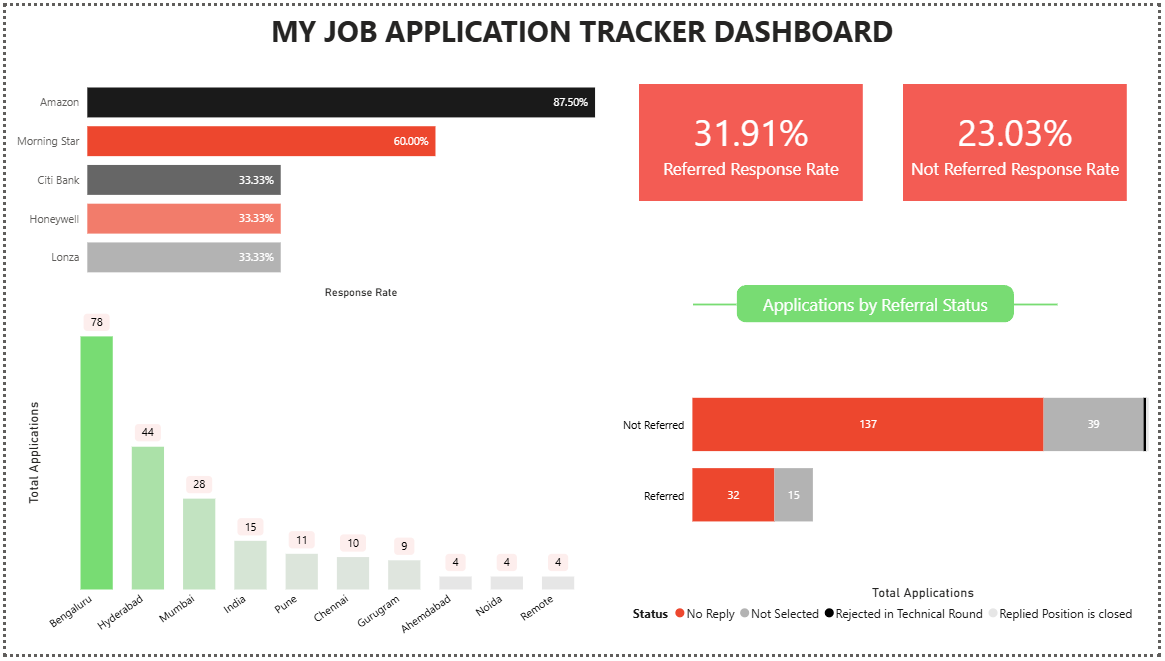

The dashboard page shown, as its layout file describes it:
{"tool":"powerbi","page":{"name":"Deep Dive analysis","canvas":[1280,720],"ordinal":1},"visuals":[{"type":"clusteredBarChart","fields":{"Category":["Job_application.company_name"],"Y":["Job_application.Response Rate"]},"box":[0,60,703.3,270],"z":0},{"type":"textbox","box":[0,0,1280,60],"z":1000},{"type":"clusteredColumnChart","fields":{"Y":["Job_application.Total Applications"],"Category":["Job_application.place_of_job"]},"box":[16.7,330,643.3,390],"z":2000},{"type":"barChart","fields":{"Category":["Job_application.Referral Status"],"Series":["Job_application.status"],"Y":["Job_application.Total Applications"]},"box":[673.3,351.7,606.7,341.7],"z":3000},{"type":"shape","box":[811.7,310,308.3,41.7],"z":4000},{"type":"shape","box":[763.3,300,48.3,63.3],"z":5000},{"type":"shape","box":[1120,300,48.3,63.3],"z":6000},{"type":"card","fields":{"Values":["Job_application.Referred Response Rate"]},"box":[703.3,86.7,248.3,130],"z":7000},{"type":"card","fields":{"Values":["Job_application.Not Referred Response Rate"]},"box":[996.7,86.7,248.3,130],"z":8000}]}

Visuals, with their boxes in screenshot pixels (x1, y1, x2, y2), scaled from the page's 1280x720 canvas onto the 1165x661 screenshot:
clusteredBarChart - Job_application.company_name x Job_application.Response Rate: {"left": 0, "top": 55, "right": 640, "bottom": 303}
textbox: {"left": 0, "top": 0, "right": 1164, "bottom": 55}
clusteredColumnChart - Job_application.Total Applications x Job_application.place_of_job: {"left": 15, "top": 303, "right": 601, "bottom": 660}
barChart - Job_application.Referral Status x Job_application.status: {"left": 613, "top": 323, "right": 1164, "bottom": 637}
shape: {"left": 739, "top": 285, "right": 1019, "bottom": 323}
shape: {"left": 695, "top": 275, "right": 739, "bottom": 334}
shape: {"left": 1019, "top": 275, "right": 1063, "bottom": 334}
card - Job_application.Referred Response Rate: {"left": 640, "top": 80, "right": 866, "bottom": 199}
card - Job_application.Not Referred Response Rate: {"left": 907, "top": 80, "right": 1133, "bottom": 199}
